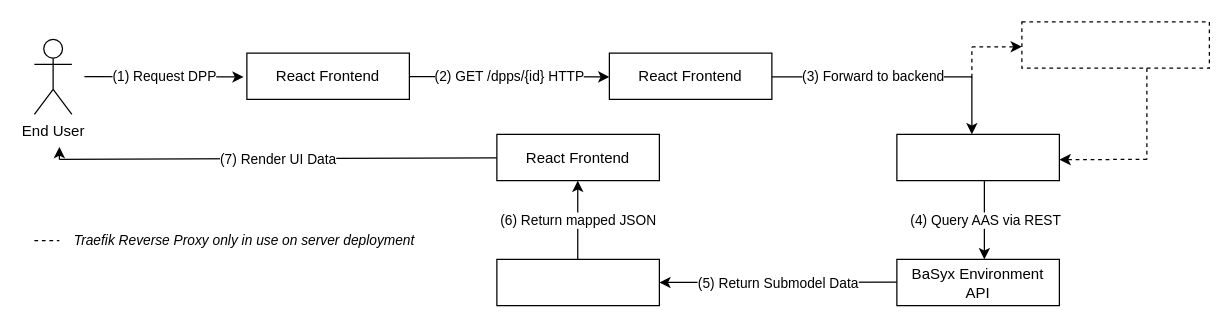
Image size: 1231x328. Some labels were removed from this diagram. The shapes that lost their labels are listed below. From the top down, each one's box as (x1, y1, x2, y2) in pixels, then its label:
(1021, 21, 1209, 68): Traefik Reverse Proxy
(896, 133, 1059, 181): Django Backend (DPP API)
(496, 258, 659, 306): Django Backend
